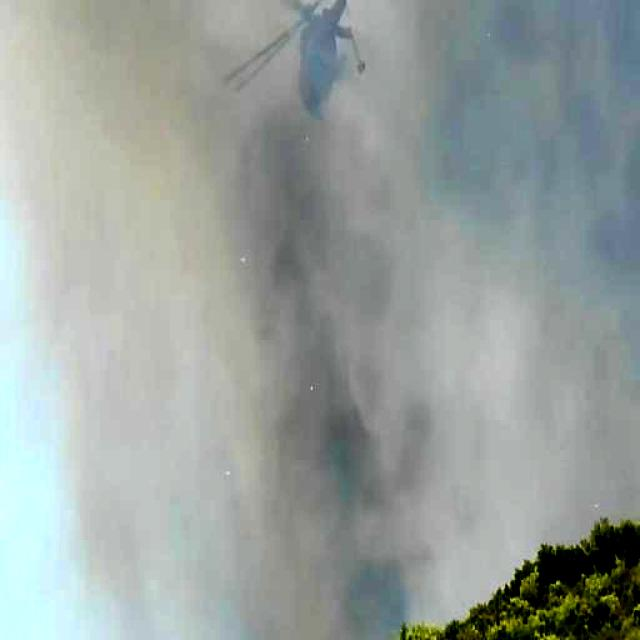drone: (221, 0, 421, 121)
